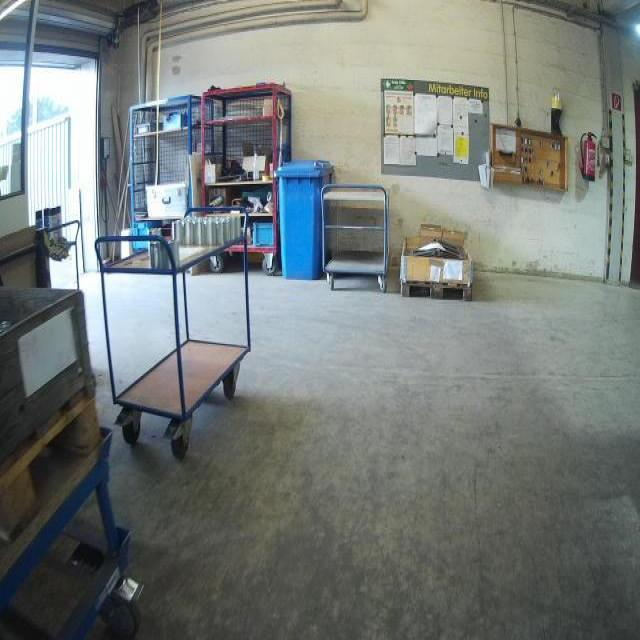pallet: (0, 386, 103, 571), (398, 277, 474, 304)
small_load_carrier: (252, 223, 274, 247)
